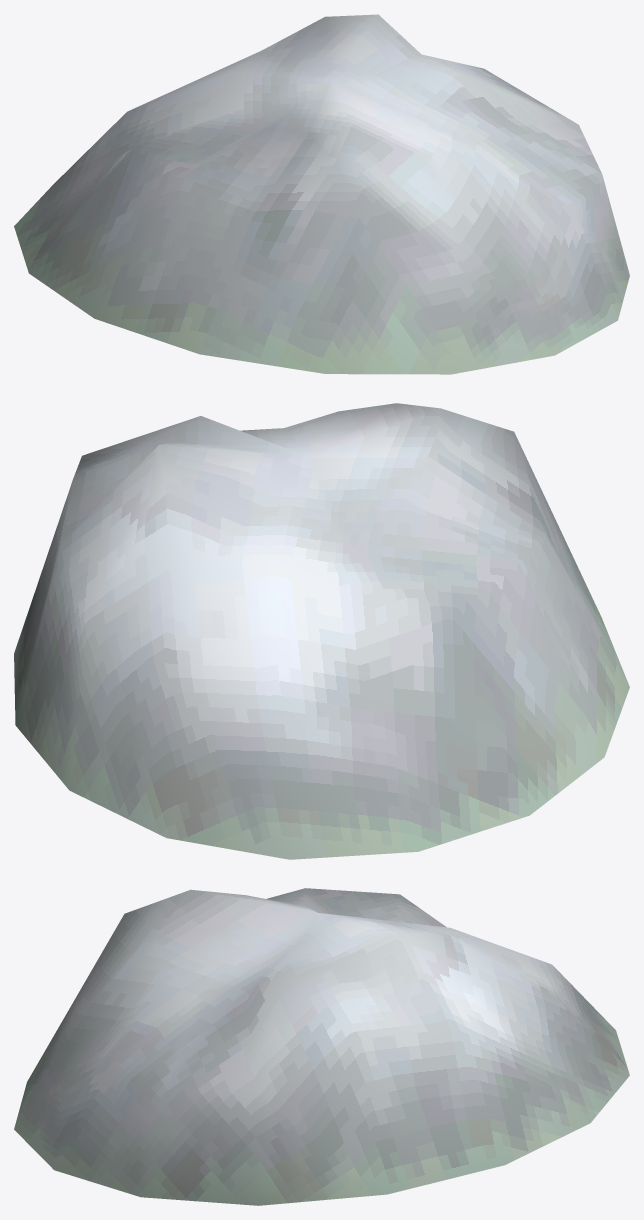
Rendered from TROLLHOLE02_STONEA02.fbx.
The picture shows the model from 3 angles, top to bottom: view 1: azimuth 30°, elevation 25°; view 2: azimuth 150°, elevation 25°; view 3: azimuth 270°, elevation 25°; orthographic projection. The views are drawn at different scales.
Parts seen in each view (by area): view 1: TROLLHOLE02_STONEA02; view 2: TROLLHOLE02_STONEA02; view 3: TROLLHOLE02_STONEA02.
Boxes of the visible parts, x1,y1,x2,y2 form: TROLLHOLE02_STONEA02: (14,14,629,374); TROLLHOLE02_STONEA02: (14,403,629,859); TROLLHOLE02_STONEA02: (14,888,629,1205).
Size of the model in its own units: 11062 by 4514 by 12615.
1 material, 1 textured.
